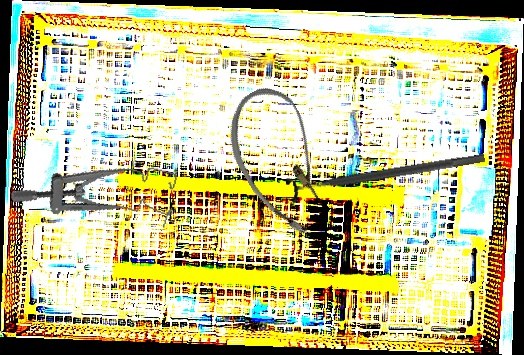Cannula: (210, 77, 353, 245)
Fixation Ring: (284, 142, 488, 209)
Speculum: (9, 135, 182, 242)
